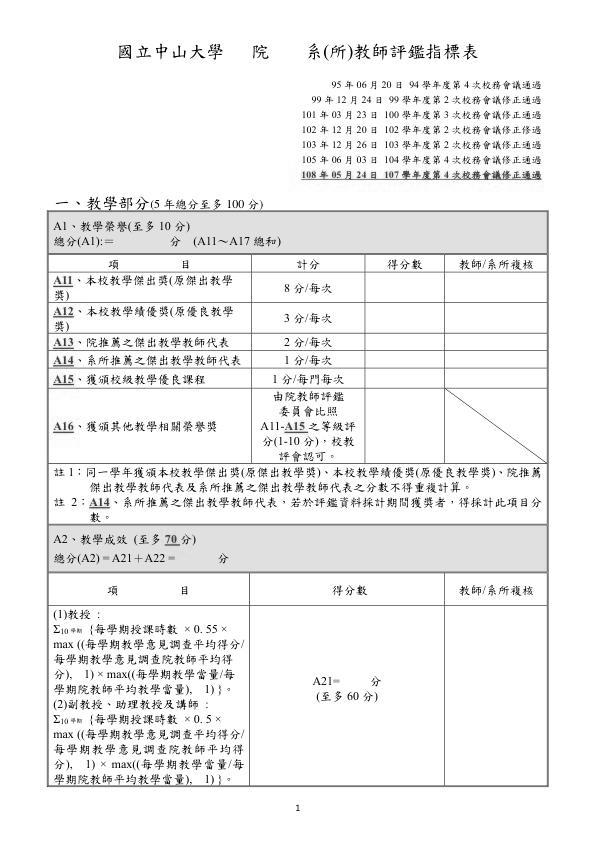table: (44, 209, 552, 794)
text: (295, 77, 550, 186), (114, 41, 480, 64), (54, 197, 265, 210)
